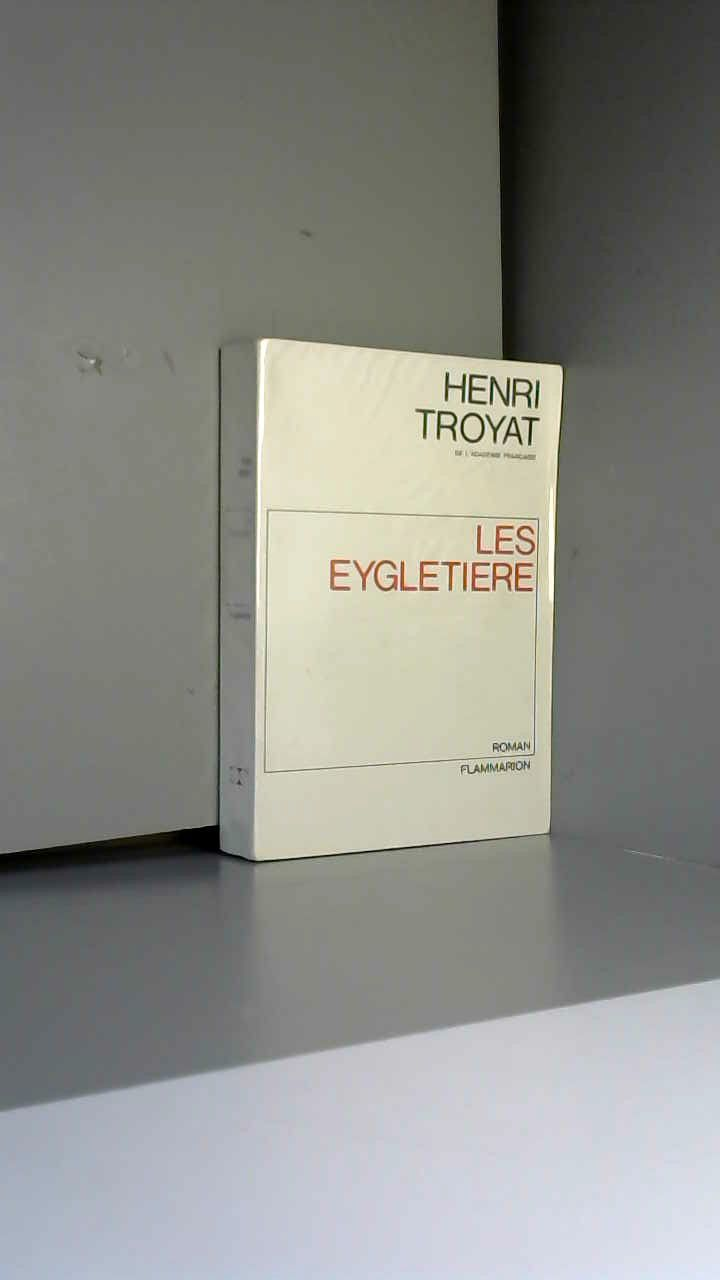book: (186, 302, 597, 898)
